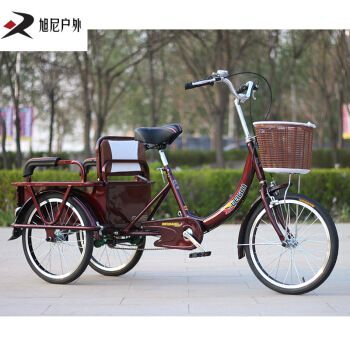empty: (14, 65, 340, 298)
